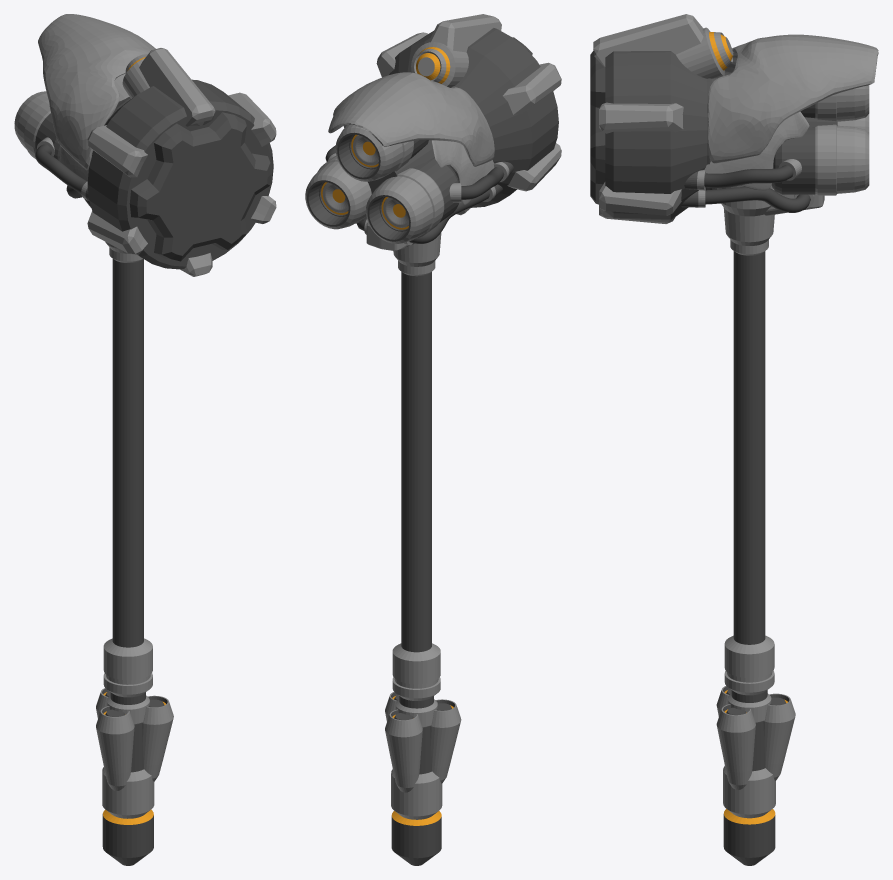
The model's file is Reinhardt hammer.fbx.
The picture shows the model from 3 angles, left to right: view 1: azimuth 30°, elevation 25°; view 2: azimuth 150°, elevation 25°; view 3: azimuth 270°, elevation 25°; orthographic projection. The views are drawn at different scales.
Parts seen in each view (by area): view 1: Handle, Front, Top, Head, Spikes, RocketsBottom, RocketsBack, Tubes, RocketTop, Middle; view 2: Handle, RocketsBack, Head, Top, Spikes, RocketsBottom, RocketTop, Middle, Tubes, TubeFittings; view 3: Handle, Top, Head, RocketsBack, Spikes, RocketsBottom, Tubes, Front, Middle, RocketTop, TubeFittings.
Boxes of the visible parts, left/top/right/bottom form: Handle: left=102, top=242, right=154, bottom=865; Front: left=129, top=112, right=271, bottom=261; Top: left=38, top=14, right=155, bottom=170; Head: left=87, top=79, right=273, bottom=269; Spikes: left=87, top=48, right=276, bottom=276; RocketsBottom: left=96, top=688, right=173, bottom=790; RocketsBack: left=14, top=91, right=60, bottom=160; Tubes: left=35, top=144, right=91, bottom=207; RocketTop: left=122, top=54, right=149, bottom=98; Middle: left=49, top=73, right=129, bottom=180; Handle: left=391, top=232, right=442, bottom=865; RocketsBack: left=305, top=124, right=459, bottom=243; Head: left=368, top=28, right=558, bottom=207; Top: left=328, top=72, right=494, bottom=166; Spikes: left=376, top=14, right=561, bottom=215; RocketsBottom: left=385, top=692, right=461, bottom=792; RocketTop: left=411, top=42, right=468, bottom=87; Middle: left=431, top=140, right=494, bottom=204; Tubes: left=325, top=145, right=504, bottom=243; TubeFittings: left=328, top=153, right=513, bottom=245; Handle: left=717, top=185, right=775, bottom=865; Top: left=707, top=34, right=878, bottom=163; Head: left=605, top=51, right=837, bottom=220; RocketsBack: left=771, top=85, right=869, bottom=195; Spikes: left=593, top=14, right=703, bottom=223; RocketsBottom: left=716, top=686, right=795, bottom=789; Tubes: left=704, top=165, right=810, bottom=212; Front: left=590, top=51, right=605, bottom=204; Middle: left=704, top=111, right=809, bottom=190; RocketTop: left=676, top=27, right=733, bottom=78; TubeFittings: left=681, top=159, right=814, bottom=208.
Bounding box in the file's own units: 39.12 × 193 × 59.56.
